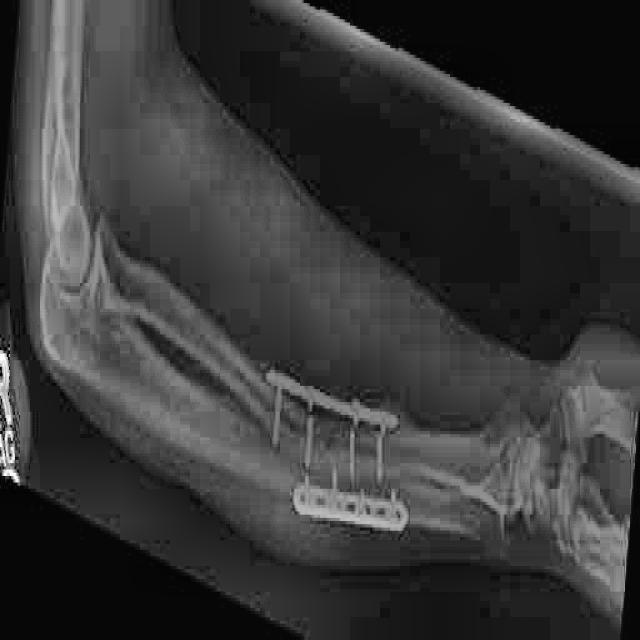forearm fracture: (319, 410, 349, 492)
